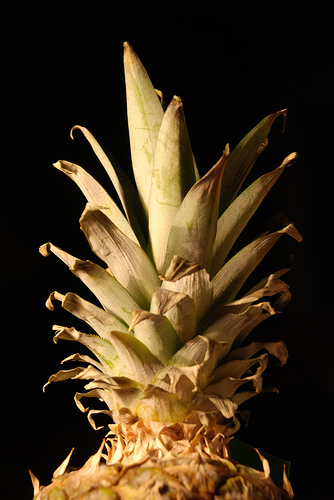pineapple: (27, 37, 302, 497)
